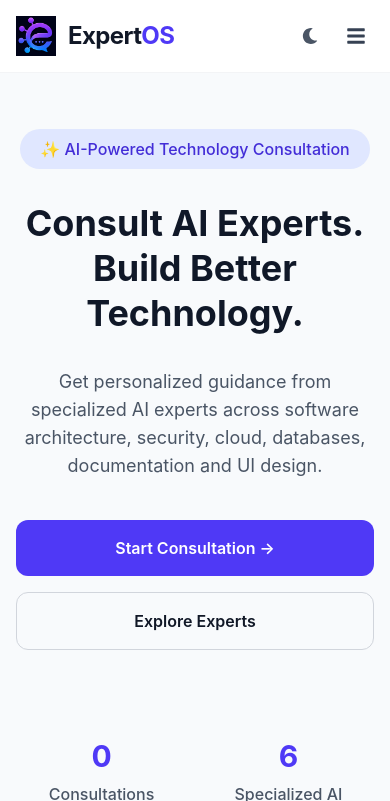
Test case: Routing and navigation › mobile menu opens and navigates
Step 1. Click the button named "Open menu" → (356, 36), box [338, 18, 374, 54]
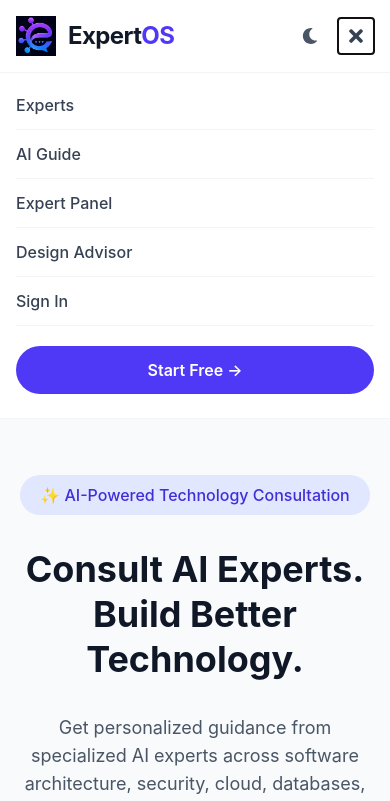
Step 2. Click the link "Expert Panel" → (64, 203), box [16, 179, 374, 228]
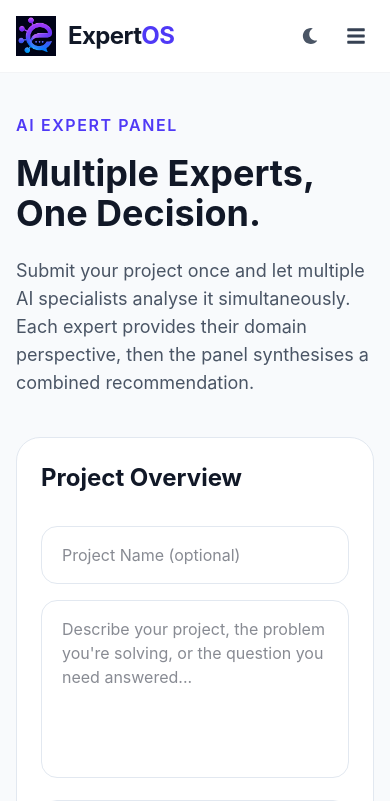
Now the heading "Multiple Experts,One Decision." is shown, box [16, 151, 315, 235]
Now the button with id "mobile-menu" is gone
